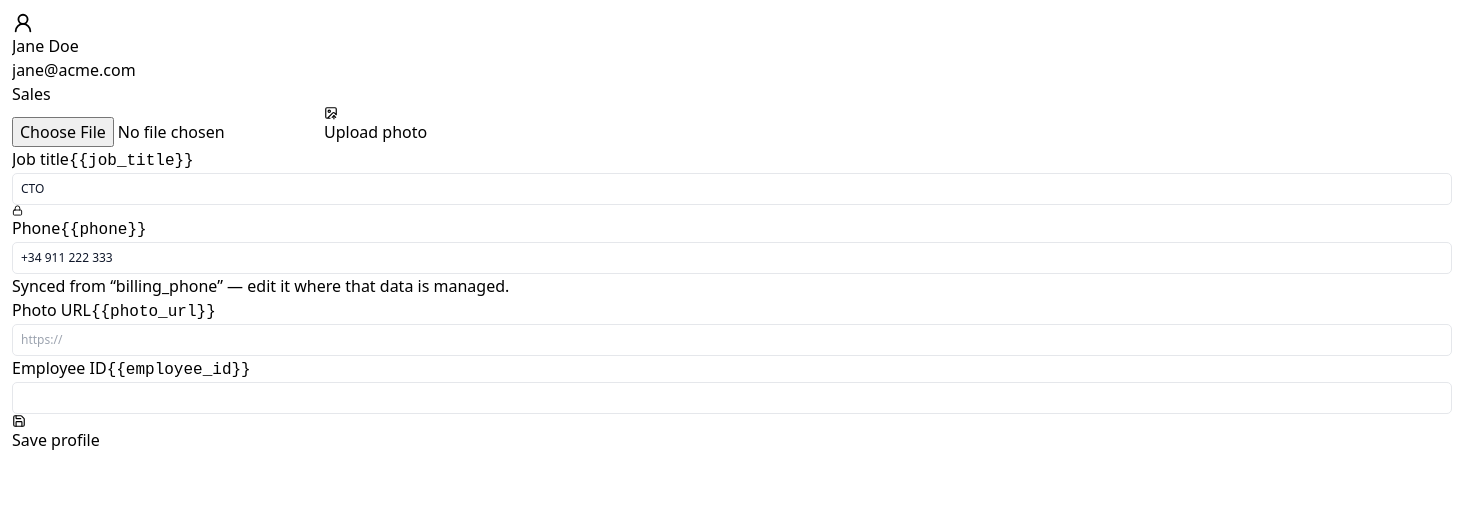
Test case: ProfileForm › saves only the changed editable fields and shows the server result
The width and height of the screenshot is (1464, 509).
Expected: the button "Save profile" is disabled, [12,414,100,452]
Replace the text in the field labelled "Job title{{job_title}}" with " Head of Sales " at {"x": 732, "y": 189}, box [12,173,1452,205]
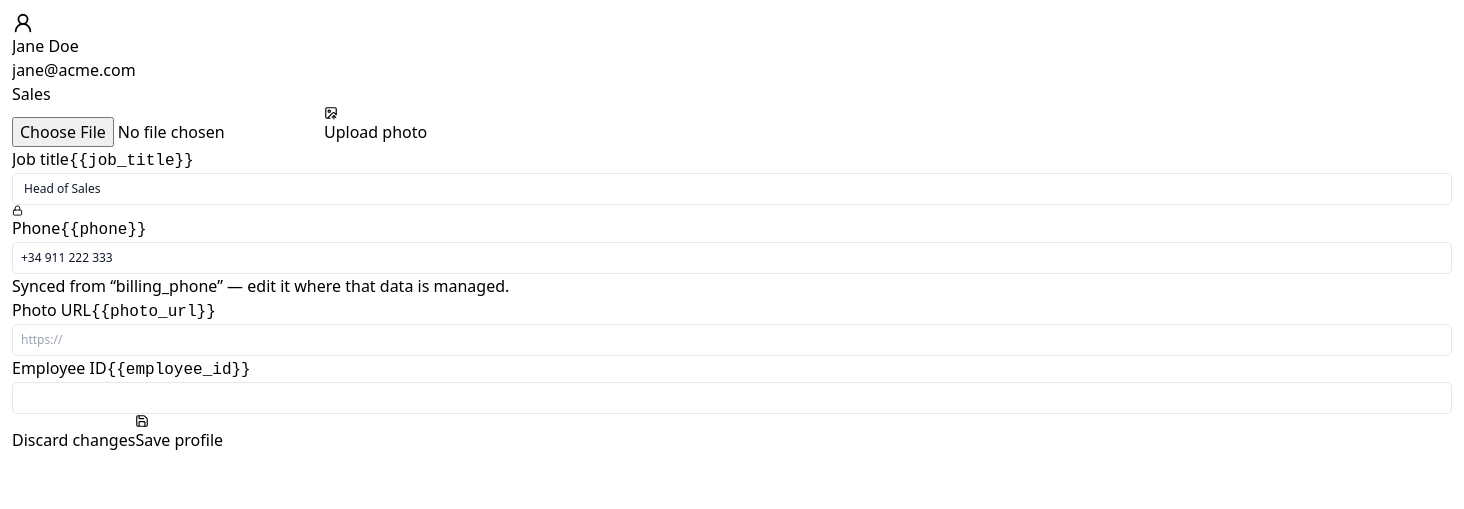
Type "E-7" into the field labelled "Employee ID{{employee_id}}" at {"x": 732, "y": 398}, box [12,382,1452,414]
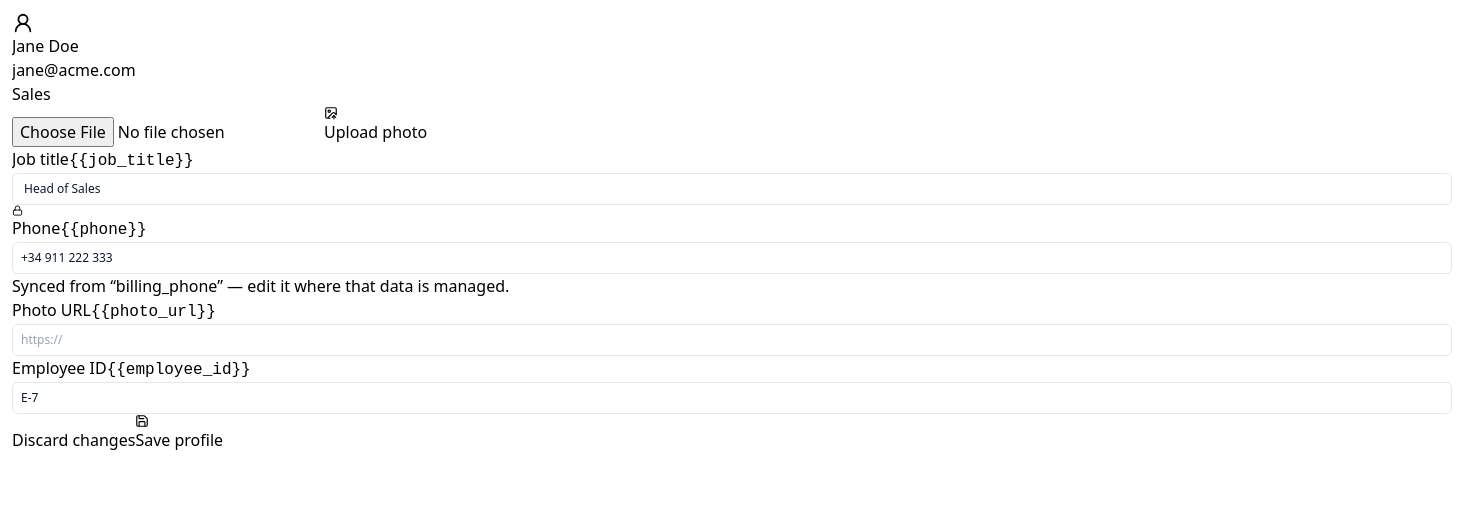
Expected: the button "Save profile" is enabled
Click the button "Save profile" at {"x": 179, "y": 433}, box [135,414,223,452]
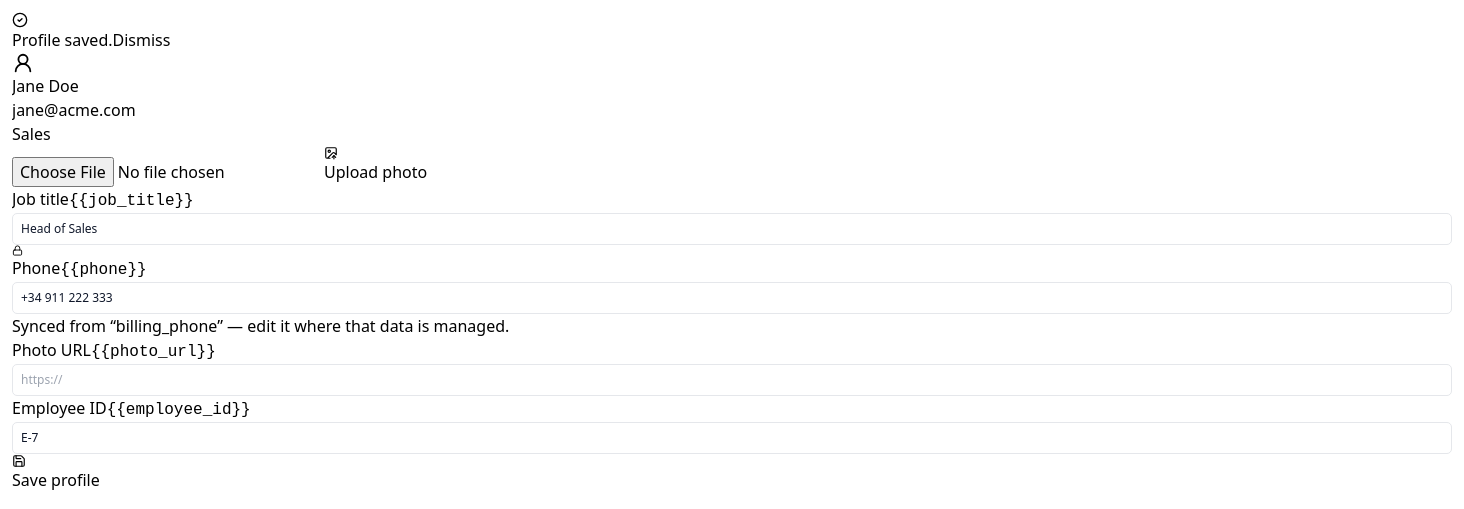
Expected: the text "Profile saved." is shown, [12,29,112,51]
Expected: the button "Save profile" is disabled, [12,454,100,492]
